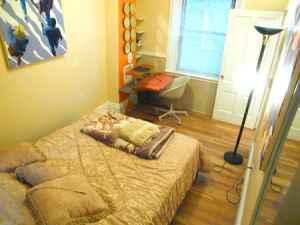Cama: (3, 116, 204, 224)
Puerta: (211, 8, 284, 128)
Ventana: (175, 1, 223, 77)
